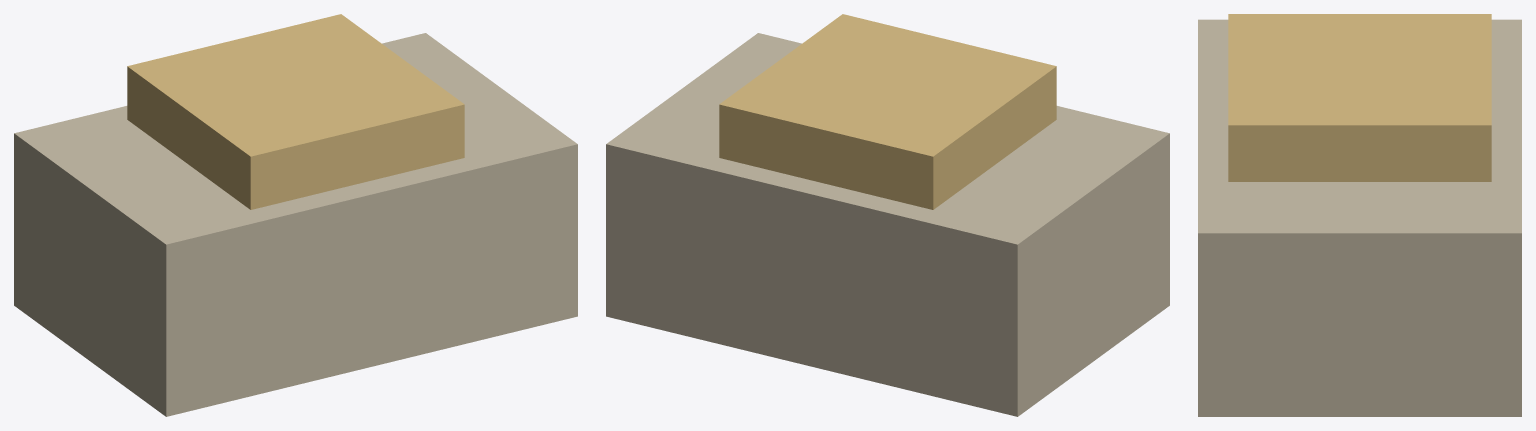
File: 079_L103_LED2.glb
3 renders of one model, left to right at view 1: azimuth 30°, elevation 25°; view 2: azimuth 150°, elevation 25°; view 3: azimuth 270°, elevation 25°, orthographic. The views are drawn at different scales.
Visible parts, largest first — view 1: LED_Case, LED_Lens; view 2: LED_Case, LED_Lens; view 3: LED_Case, LED_Lens.
Boxes of the visible parts, x1,y1,x2,y2 form: LED_Case: (14, 33, 577, 416); LED_Lens: (127, 14, 464, 209); LED_Case: (606, 33, 1169, 416); LED_Lens: (719, 14, 1056, 209); LED_Case: (1198, 19, 1521, 416); LED_Lens: (1228, 14, 1491, 181).
Bounding box in the file's own units: 0.0025 × 0.00131 × 0.0016.
